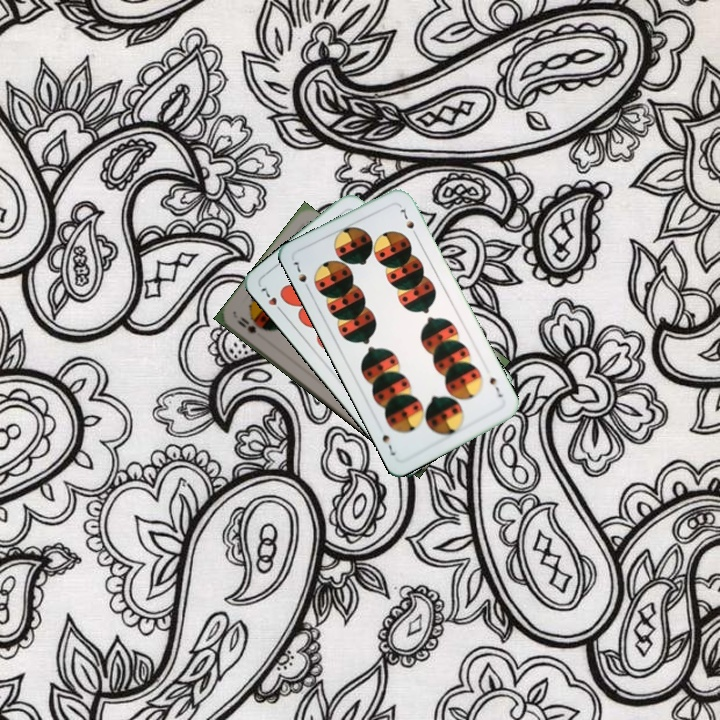H7: (256, 281, 286, 317)
S7: (288, 257, 313, 294), (485, 373, 505, 400)
SO: (234, 312, 259, 336)
